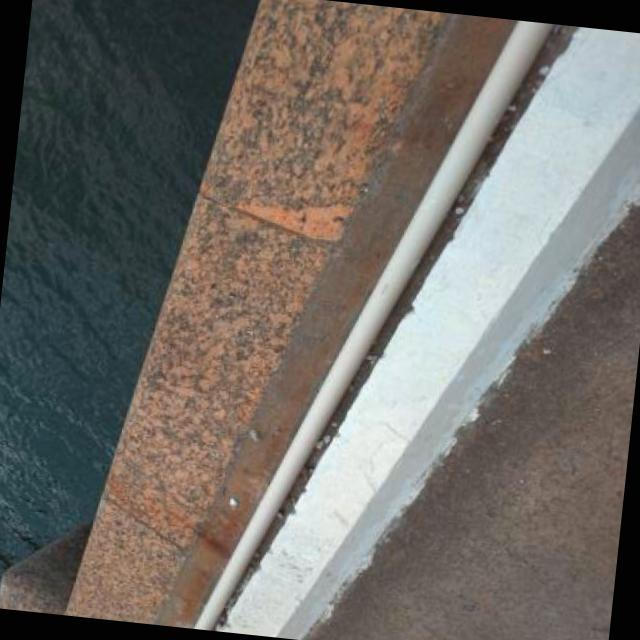gas: (192, 18, 553, 630)
